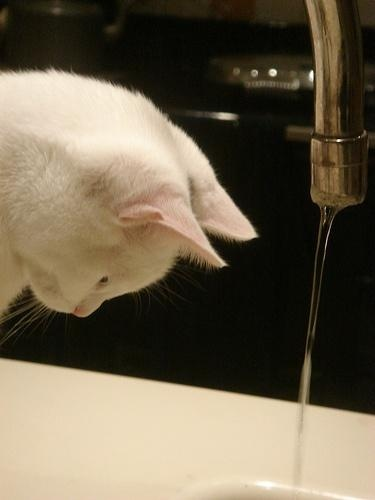cat: (1, 63, 261, 344)
